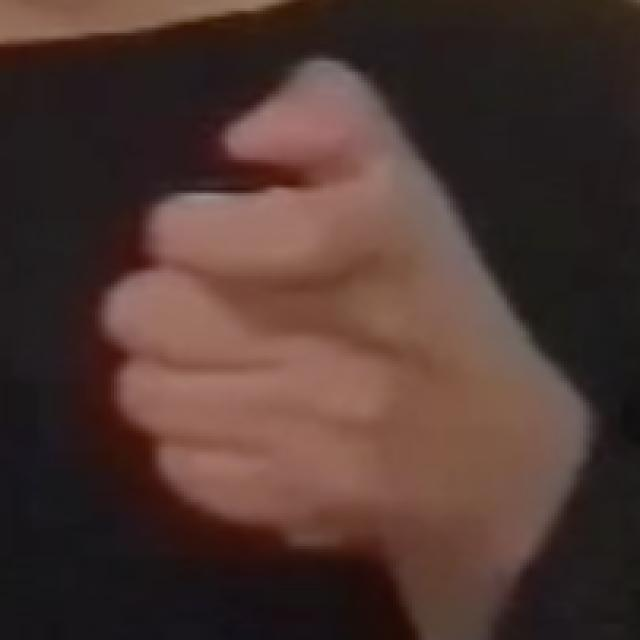Q: (83, 44, 572, 588)
